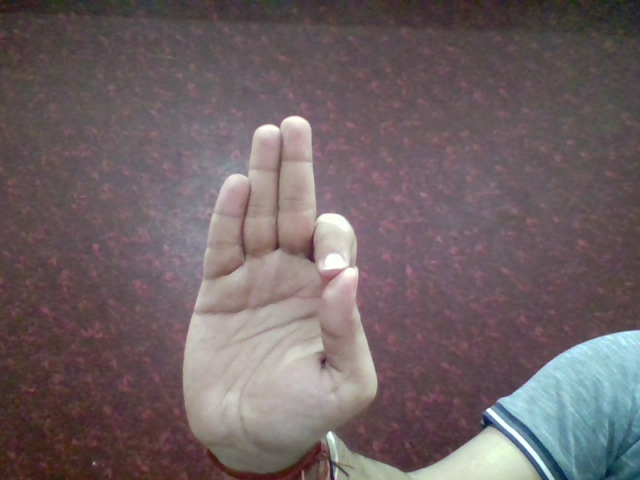f: (175, 110, 383, 460)
